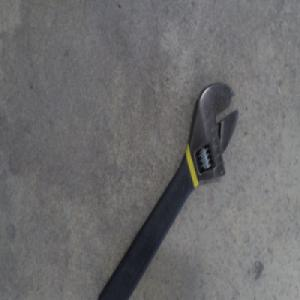AdjustableWrench: (99, 81, 241, 299)
